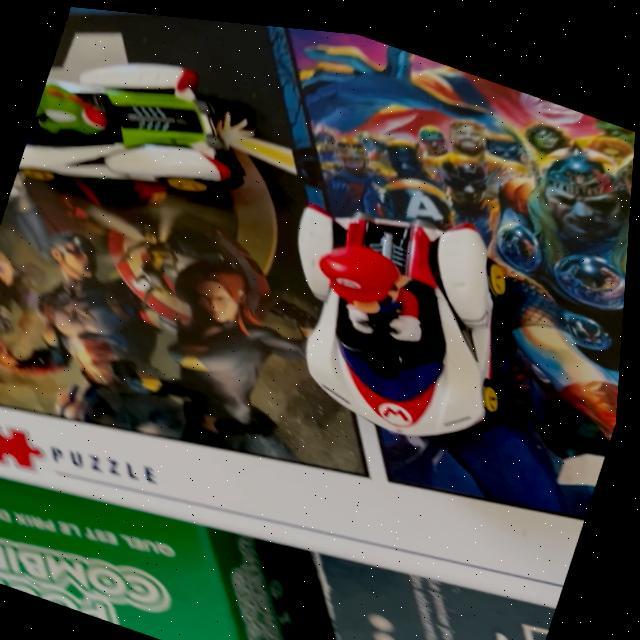mario: (230, 142, 573, 473)
yoshi: (16, 2, 293, 256)
